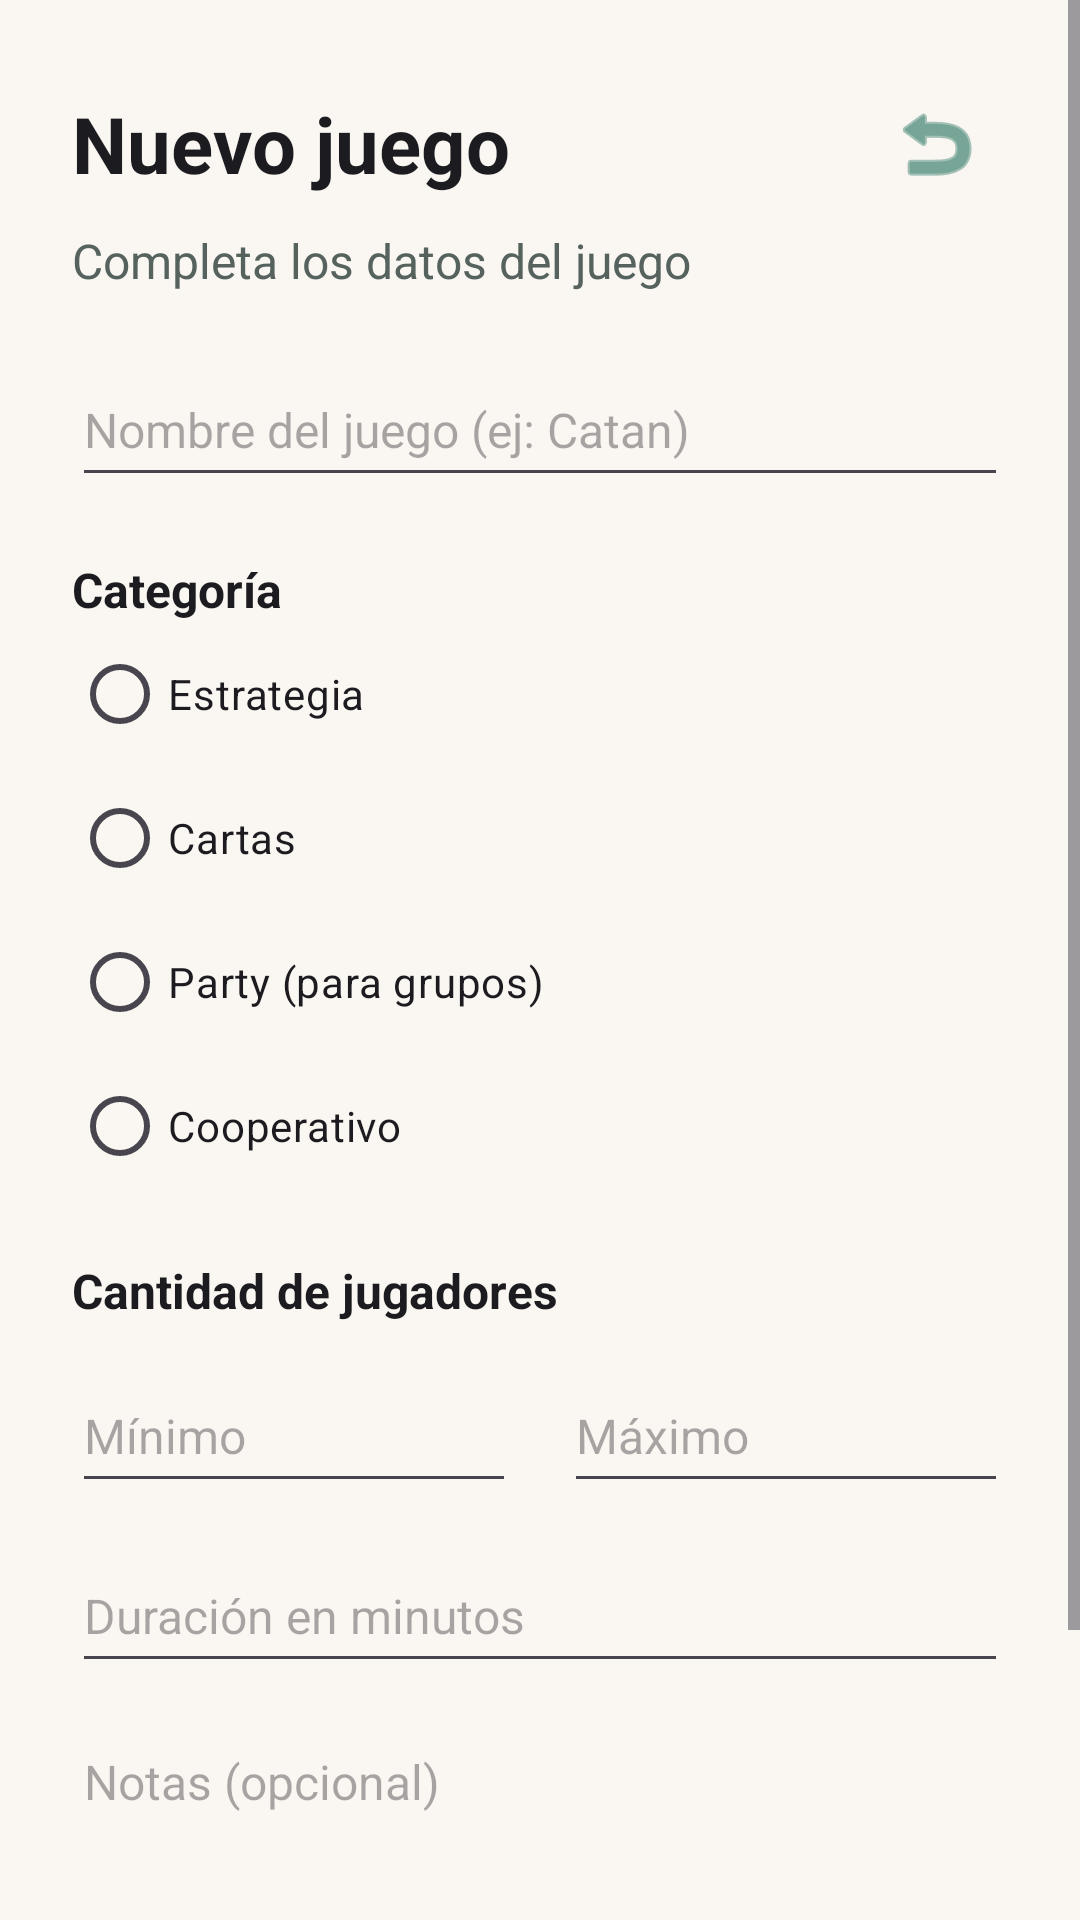

Icons on this 1080px x 1920px Android screen, each with its box as [x1=x1, y1=y1, x2=x2, y2=y2]:
Volver: [x1=903, y1=113, x2=972, y2=176]
